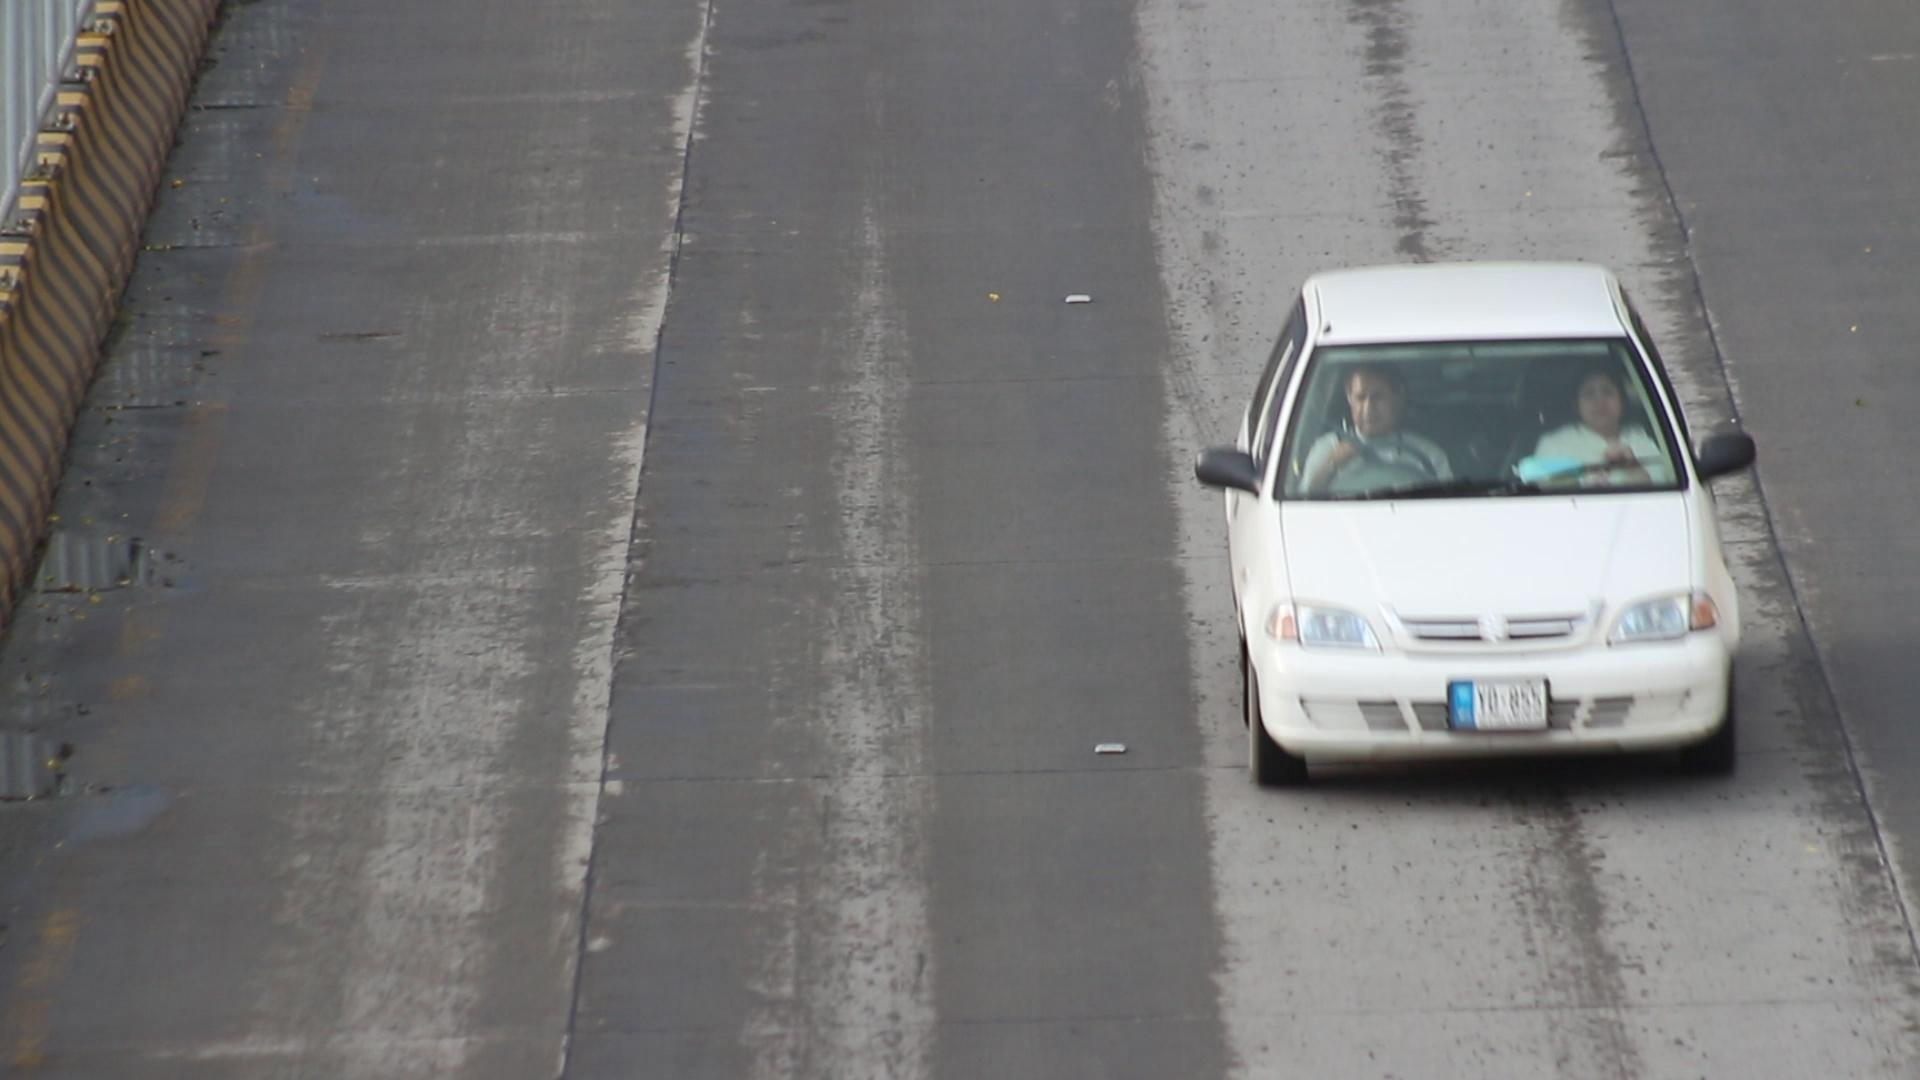windshield: (1263, 323, 1704, 517)
